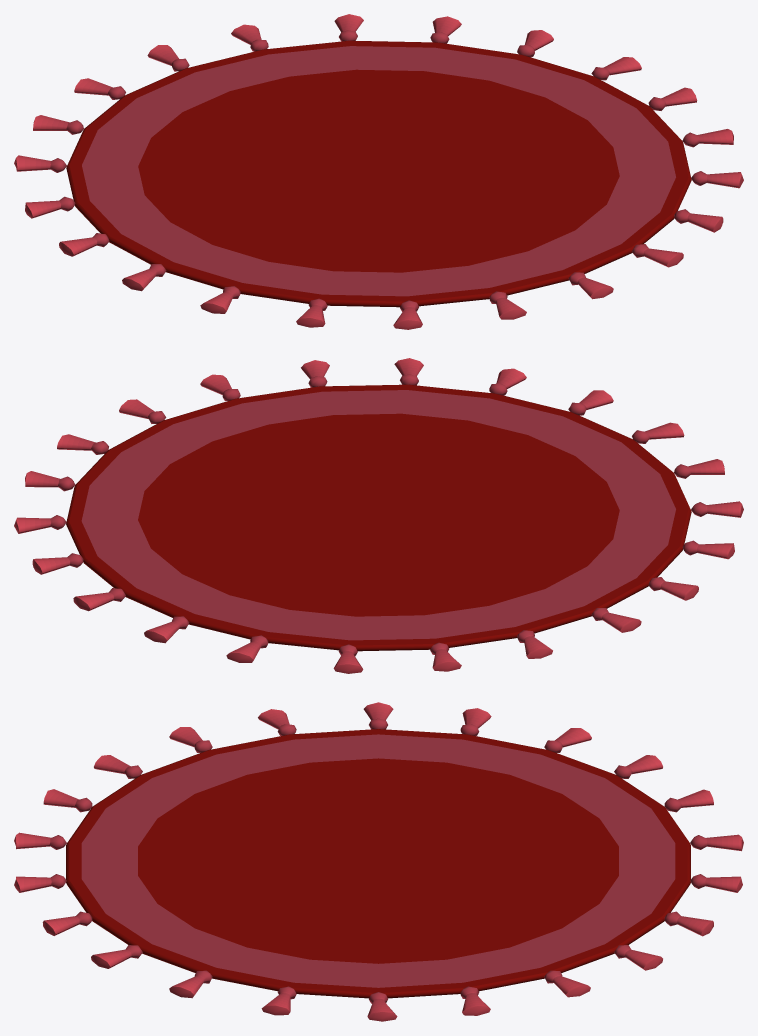
File: Rug.fbx
3 views of the same model, one above another, from view 1: azimuth 30°, elevation 25°; view 2: azimuth 150°, elevation 25°; view 3: azimuth 270°, elevation 25° (orthographic).
Parts seen in each view (by area): view 1: Rug_GEO_Adjusted; view 2: Rug_GEO_Adjusted; view 3: Rug_GEO_Adjusted.
Part boxes in pixels (x1=…): Rug_GEO_Adjusted: x1=14, y1=14, x2=743, y2=329; Rug_GEO_Adjusted: x1=14, y1=358, x2=743, y2=673; Rug_GEO_Adjusted: x1=14, y1=702, x2=743, y2=1021.
Bounding box in the file's own units: 117 × 1.92 × 116.
